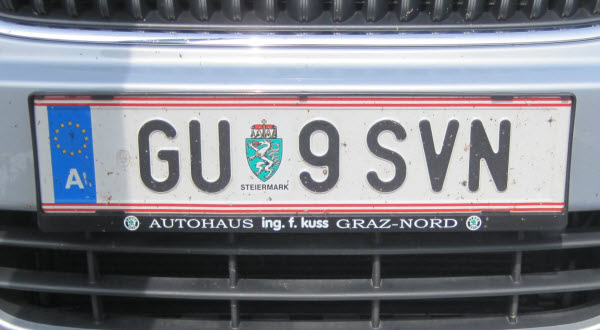license_plate: (32, 97, 569, 214)
